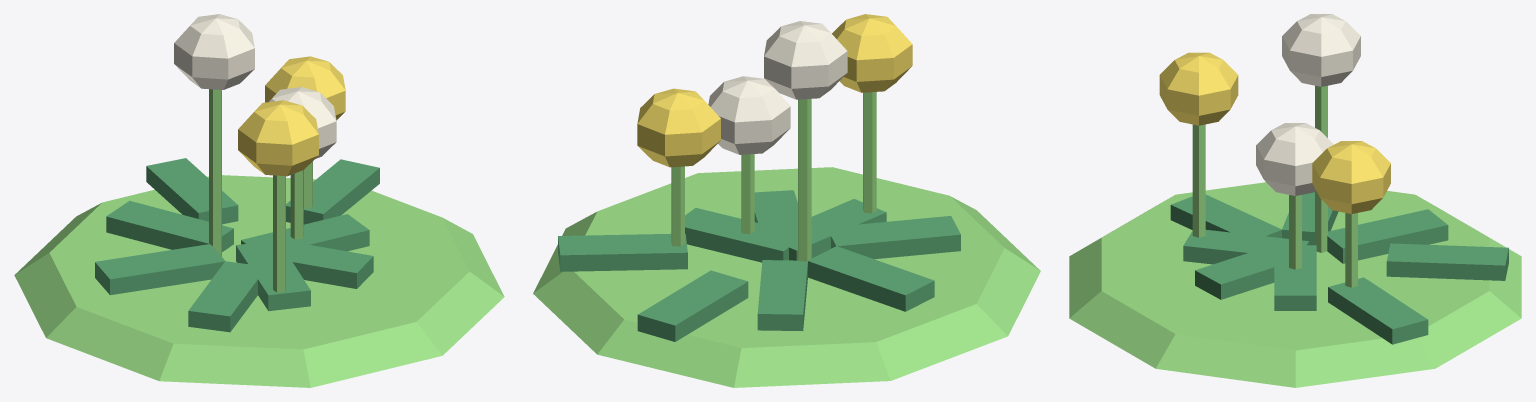
The model's file is lawn-mowing-simulator-kit-dandelion-clump-8d61d1ae__27417.glb.
The picture shows the model from 3 angles, left to right: view 1: azimuth 30°, elevation 25°; view 2: azimuth 150°, elevation 25°; view 3: azimuth 270°, elevation 25°; orthographic projection. The views are drawn at different scales.
Parts seen in each view (by area): view 1: dandelion-clump; view 2: dandelion-clump; view 3: dandelion-clump.
Part boxes in pixels (box(x1,y1,x2,y2)): dandelion-clump: box(14, 14, 504, 387); dandelion-clump: box(533, 14, 1040, 387); dandelion-clump: box(1069, 14, 1521, 387).
Bounding box in the file's own units: 0.56 × 0.3325 × 0.5326.
